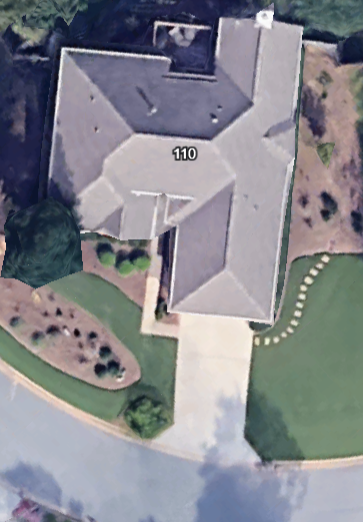driveway: (158, 315, 263, 460)
